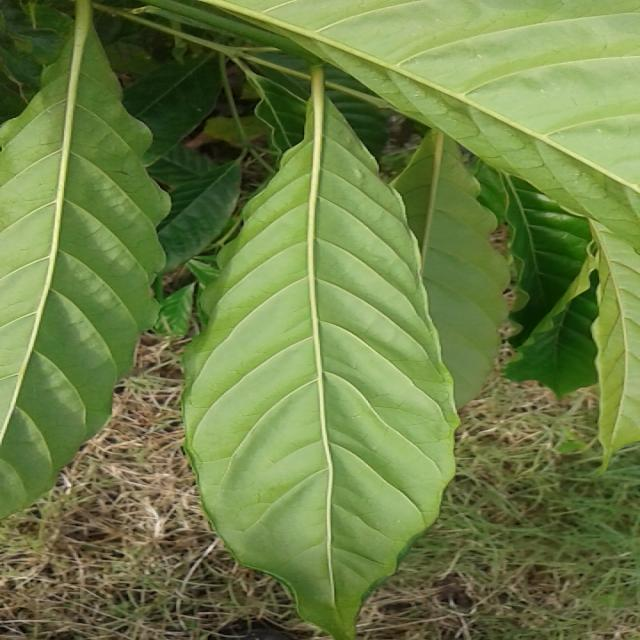Sanas: (180, 103, 457, 640)
